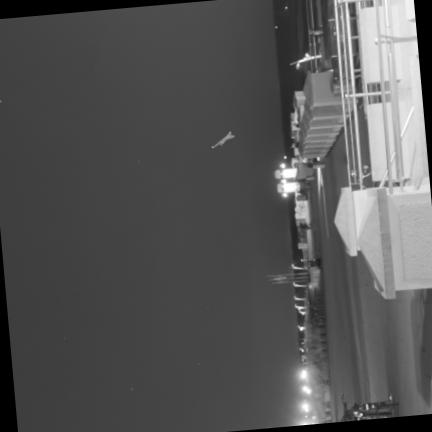Shahed: (211, 132, 235, 147)
